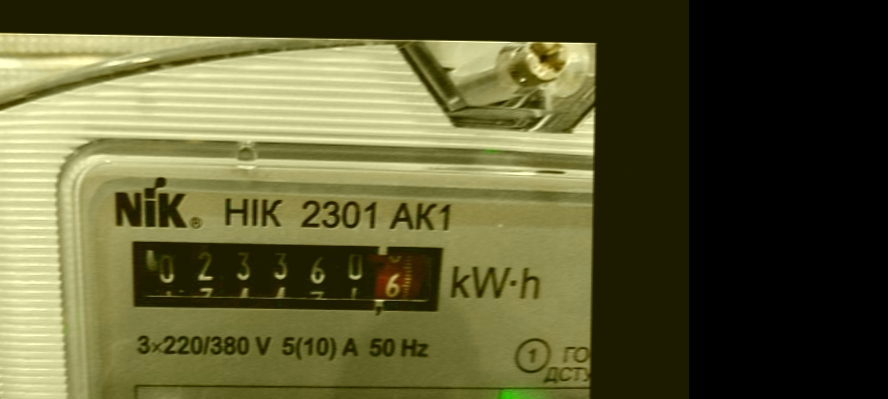0: (156, 250, 177, 284), (347, 250, 364, 281)
2: (194, 248, 217, 283)
3: (232, 249, 253, 281), (271, 248, 290, 280)
6: (307, 252, 327, 284), (382, 268, 403, 298)
screen: (113, 223, 457, 327)
